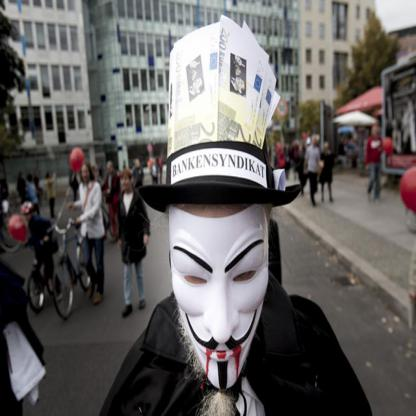face: (171, 202, 269, 391), (122, 174, 131, 191), (82, 166, 90, 183), (26, 211, 33, 222), (108, 164, 113, 173), (372, 128, 377, 136), (313, 139, 317, 147), (326, 145, 329, 152)
